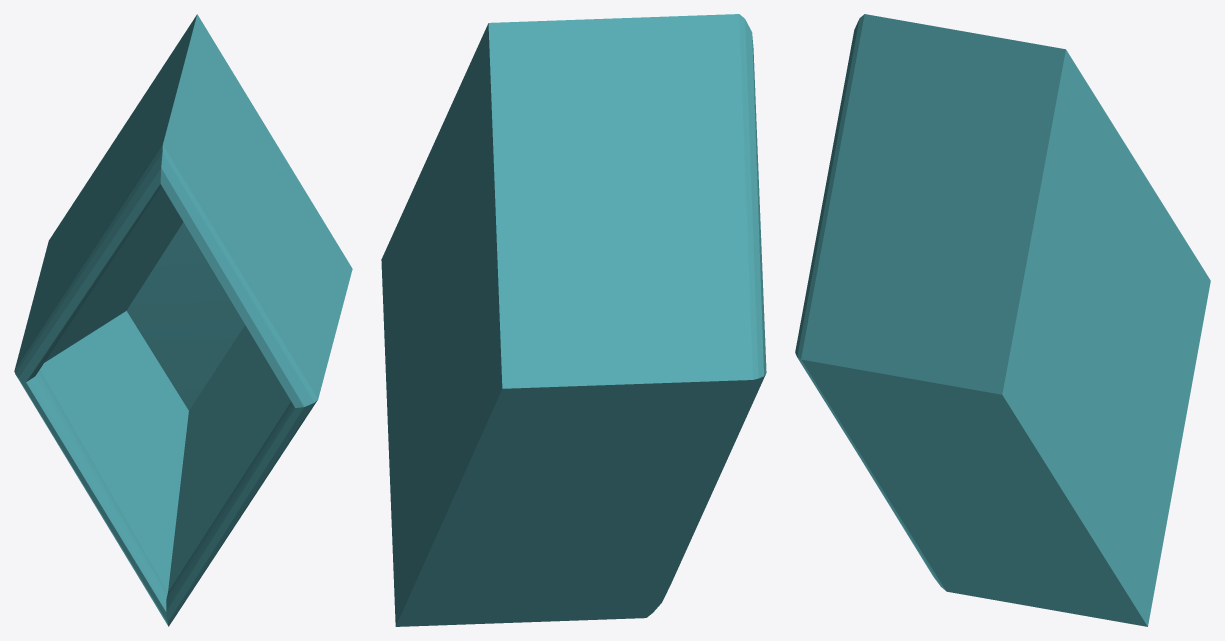
File: BL3_8shapes_Kite_Classic_Metal.001 2.glb
The picture shows the model from 3 angles, left to right: view 1: azimuth 30°, elevation 25°; view 2: azimuth 150°, elevation 25°; view 3: azimuth 270°, elevation 25°; orthographic projection. The views are drawn at different scales.
Visible parts, largest first — view 1: BL3_8shapes_Kite_Classic_Metal.001; view 2: BL3_8shapes_Kite_Classic_Metal.001; view 3: BL3_8shapes_Kite_Classic_Metal.001.
Boxes of the visible parts, bbox=[...] form: BL3_8shapes_Kite_Classic_Metal.001: bbox=[14, 14, 352, 626]; BL3_8shapes_Kite_Classic_Metal.001: bbox=[381, 14, 766, 626]; BL3_8shapes_Kite_Classic_Metal.001: bbox=[795, 14, 1210, 626].
Size of the model in its own units: 0.4804 by 0.7492 by 0.4814.
